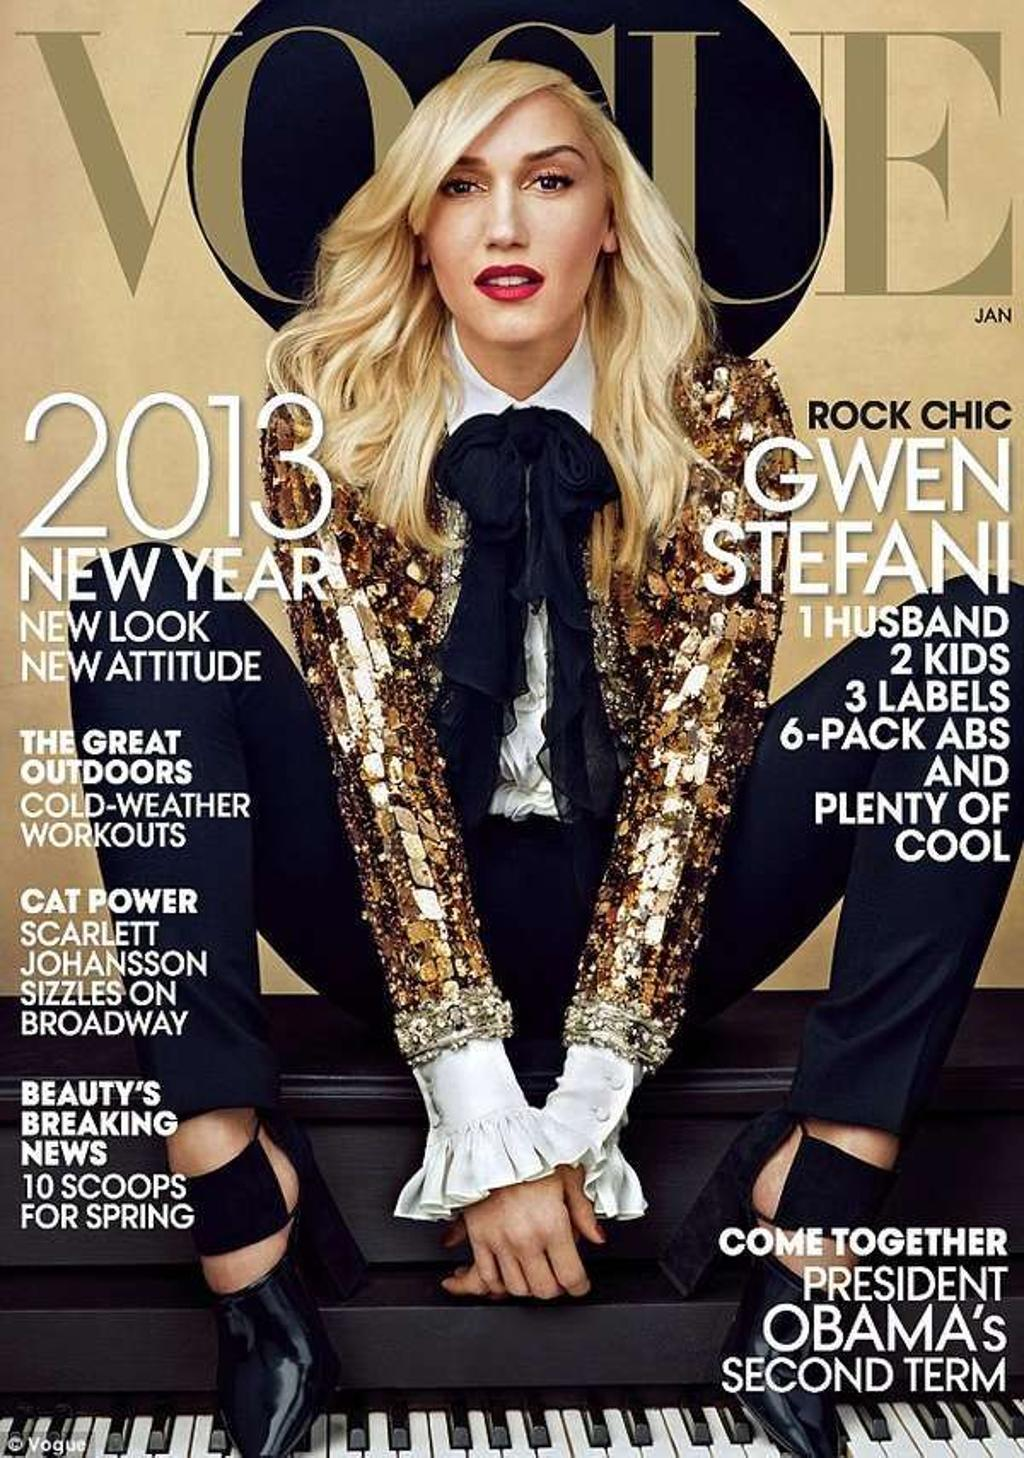face: (431, 120, 613, 342)
